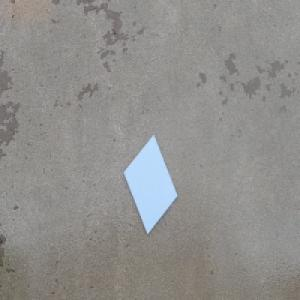PaintChip: (121, 131, 178, 236)
